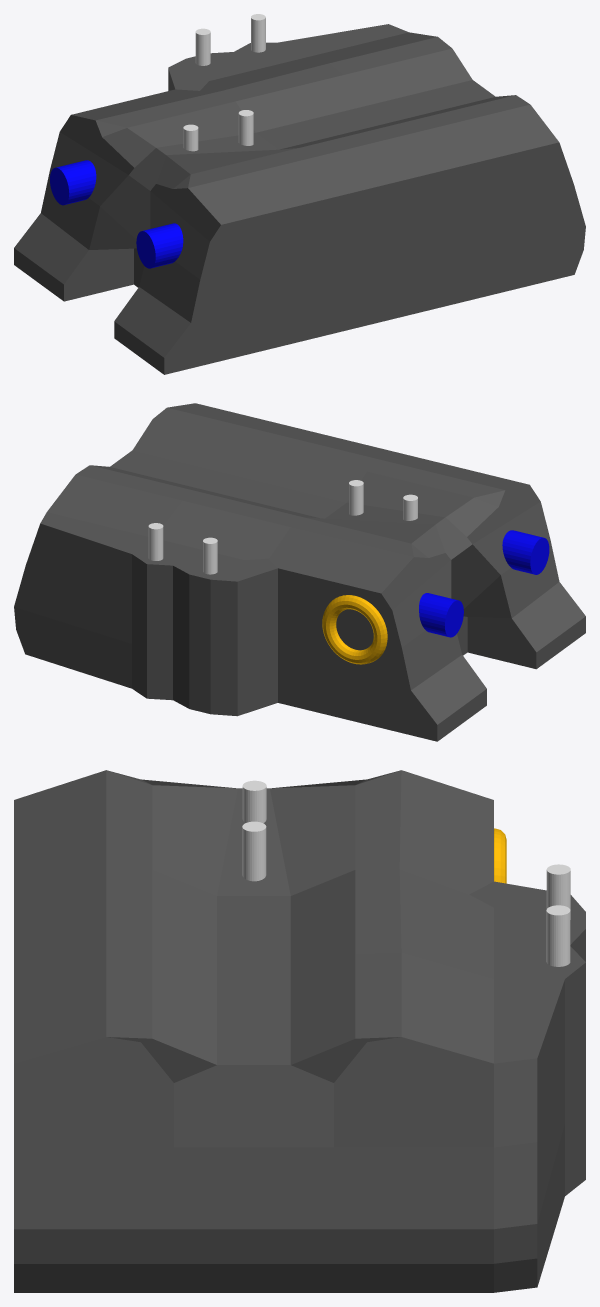
File: DC DC Converter.fbx
3 renders of one model, top to bottom at view 1: azimuth 30°, elevation 25°; view 2: azimuth 150°, elevation 25°; view 3: azimuth 270°, elevation 25°, orthographic. The views are drawn at different scales.
Visible parts, largest first — view 1: Case, Capacitor.001, Capacitor, Terminal_IN, Terminal_OUT, Terminal_OUT.001; view 2: Case, Inductor, Capacitor.001, Capacitor, Terminal_OUT, Terminal_IN, Terminal_OUT.001; view 3: Case, Terminal_OUT, Terminal_OUT.001, Terminal_IN, Terminal_IN.001, Inductor.
Boxes of the visible parts, left/top/right/bottom form: Case: left=14, top=24, right=585, bottom=374; Capacitor.001: left=136, top=223, right=183, bottom=268; Capacitor: left=50, top=160, right=96, bottom=205; Terminal_IN: left=195, top=28, right=210, bottom=65; Terminal_OUT: left=251, top=14, right=265, bottom=52; Terminal_OUT.001: left=238, top=110, right=253, bottom=145; Case: left=14, top=403, right=585, bottom=741; Inductor: left=322, top=595, right=387, bottom=664; Capacitor.001: left=502, top=530, right=549, bottom=574; Capacitor: left=419, top=593, right=463, bottom=637; Terminal_OUT: left=148, top=523, right=163, bottom=560; Terminal_IN: left=203, top=537, right=217, bottom=574; Terminal_OUT.001: left=349, top=480, right=363, bottom=515; Case: left=14, top=770, right=585, bottom=1292; Terminal_OUT: left=546, top=905, right=570, bottom=966; Terminal_OUT.001: left=242, top=821, right=266, bottom=881; Terminal_IN: left=546, top=864, right=570, bottom=919; Terminal_IN.001: left=242, top=780, right=266, bottom=823; Inductor: left=494, top=828, right=506, bottom=883.
Size of the model in its own units: 648 by 247 by 477.
